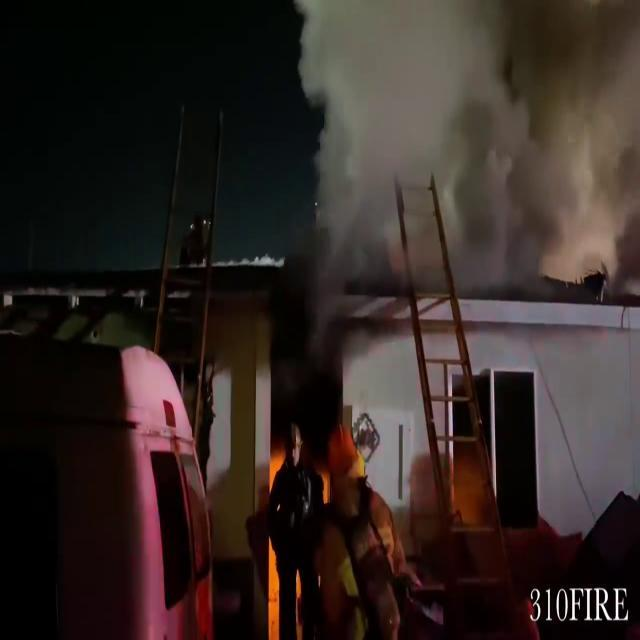Smoke: (285, 0, 640, 288)
